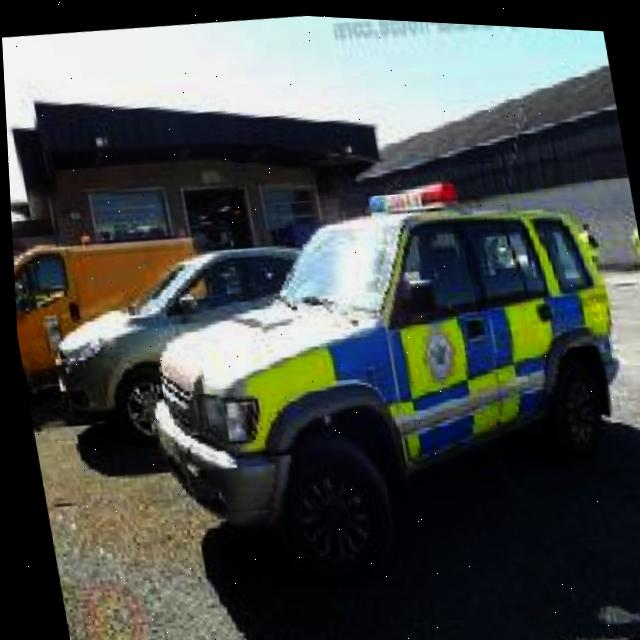emergency: (110, 138, 640, 583)
